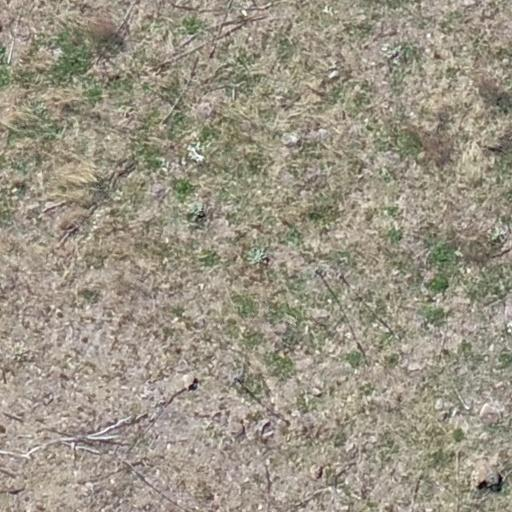stone: (474, 459, 498, 488), (478, 401, 504, 420), (253, 418, 275, 437), (188, 147, 207, 169), (6, 472, 24, 495), (44, 197, 64, 216), (481, 129, 495, 153), (184, 372, 203, 388), (282, 132, 303, 146), (382, 384, 400, 400), (327, 70, 340, 81), (307, 467, 322, 476), (465, 0, 481, 6)
